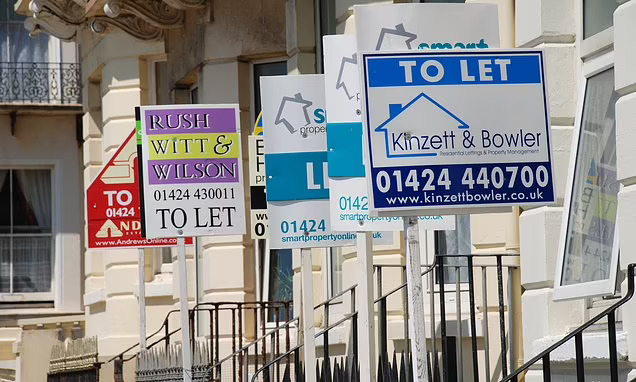property sign: (353, 54, 580, 213), (258, 64, 372, 256), (130, 96, 269, 246)
